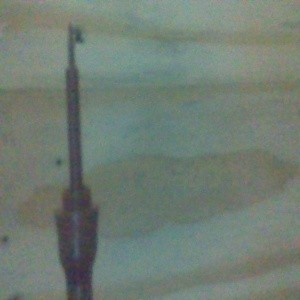solder: (53, 21, 100, 300)
